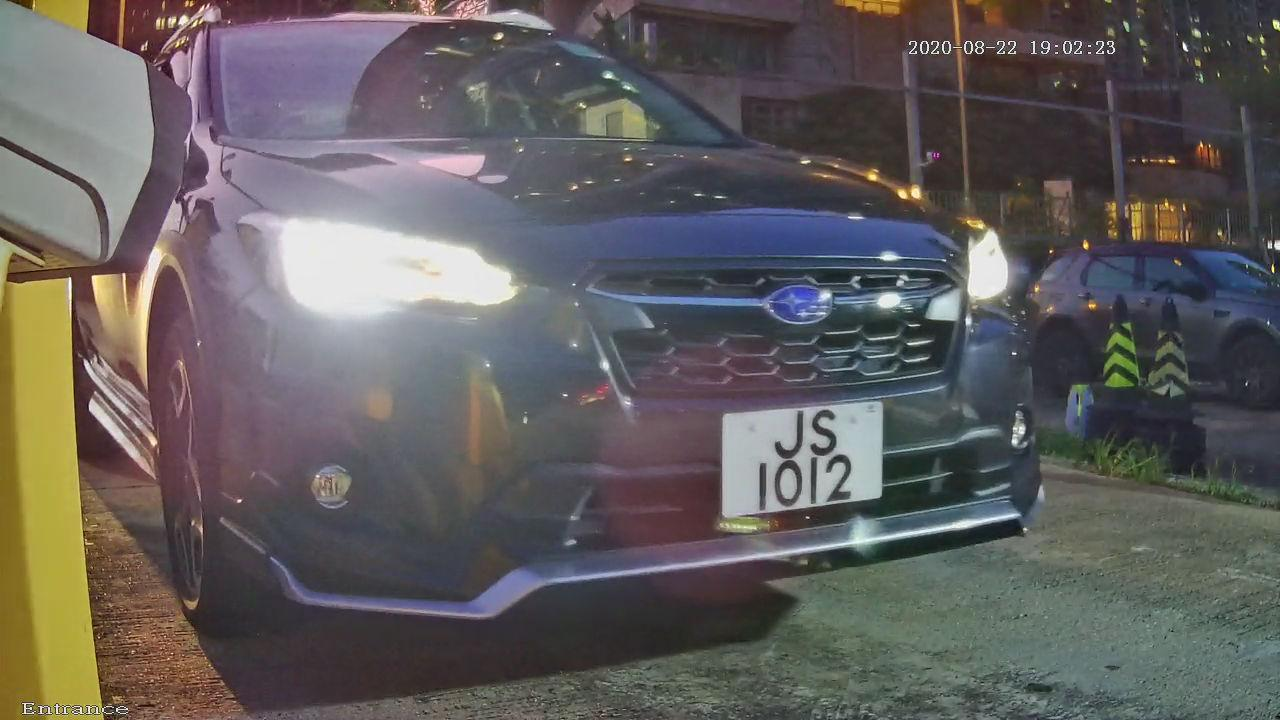Car: (23, 10, 1143, 669)
License Plate: (699, 387, 893, 529)
